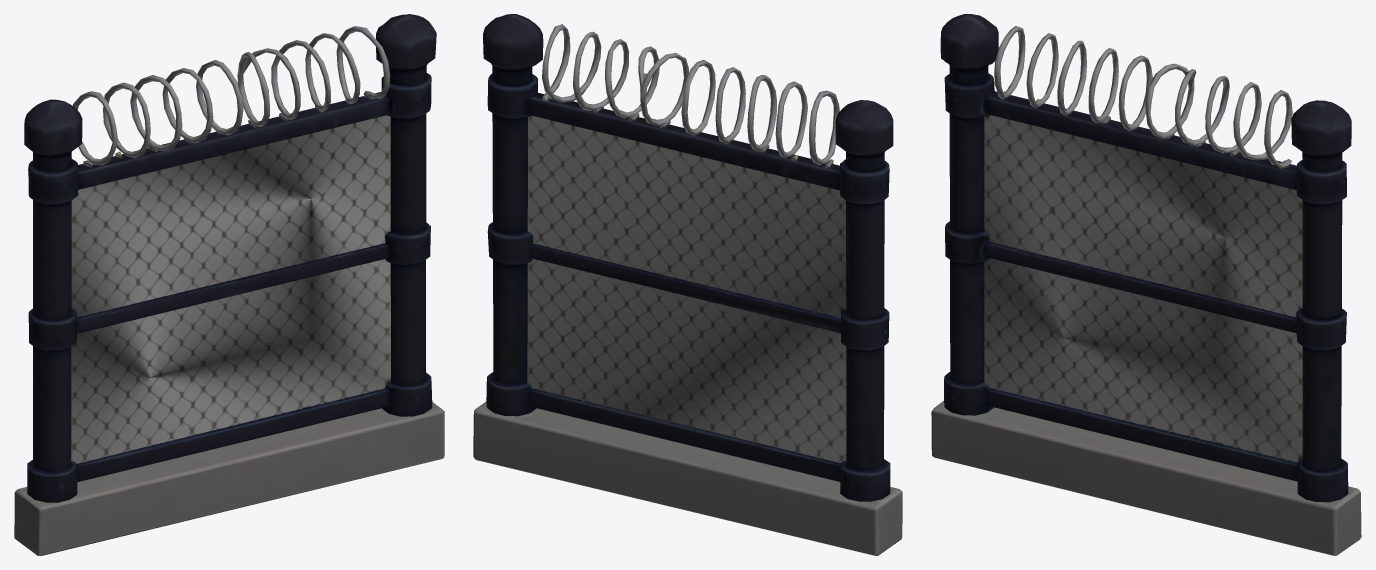
File: fence-straight.glb
3 renders of one model, left to right at view 1: azimuth 30°, elevation 25°; view 2: azimuth 150°, elevation 25°; view 3: azimuth 330°, elevation 25°, orthographic.
Parts seen in each view (by area): view 1: geometry_0; view 2: geometry_0; view 3: geometry_0.
Part boxes in pixels (x1,y1,x2,y2): geometry_0: [14, 14, 444, 555]; geometry_0: [473, 14, 902, 555]; geometry_0: [931, 14, 1361, 555].
Size of the model in its own units: 0.964 by 0.9978 by 0.1573.
Materials: 1 (1 with a texture image).
